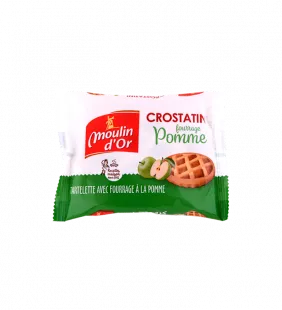MOULIN D'OR: (44, 77, 237, 228)
